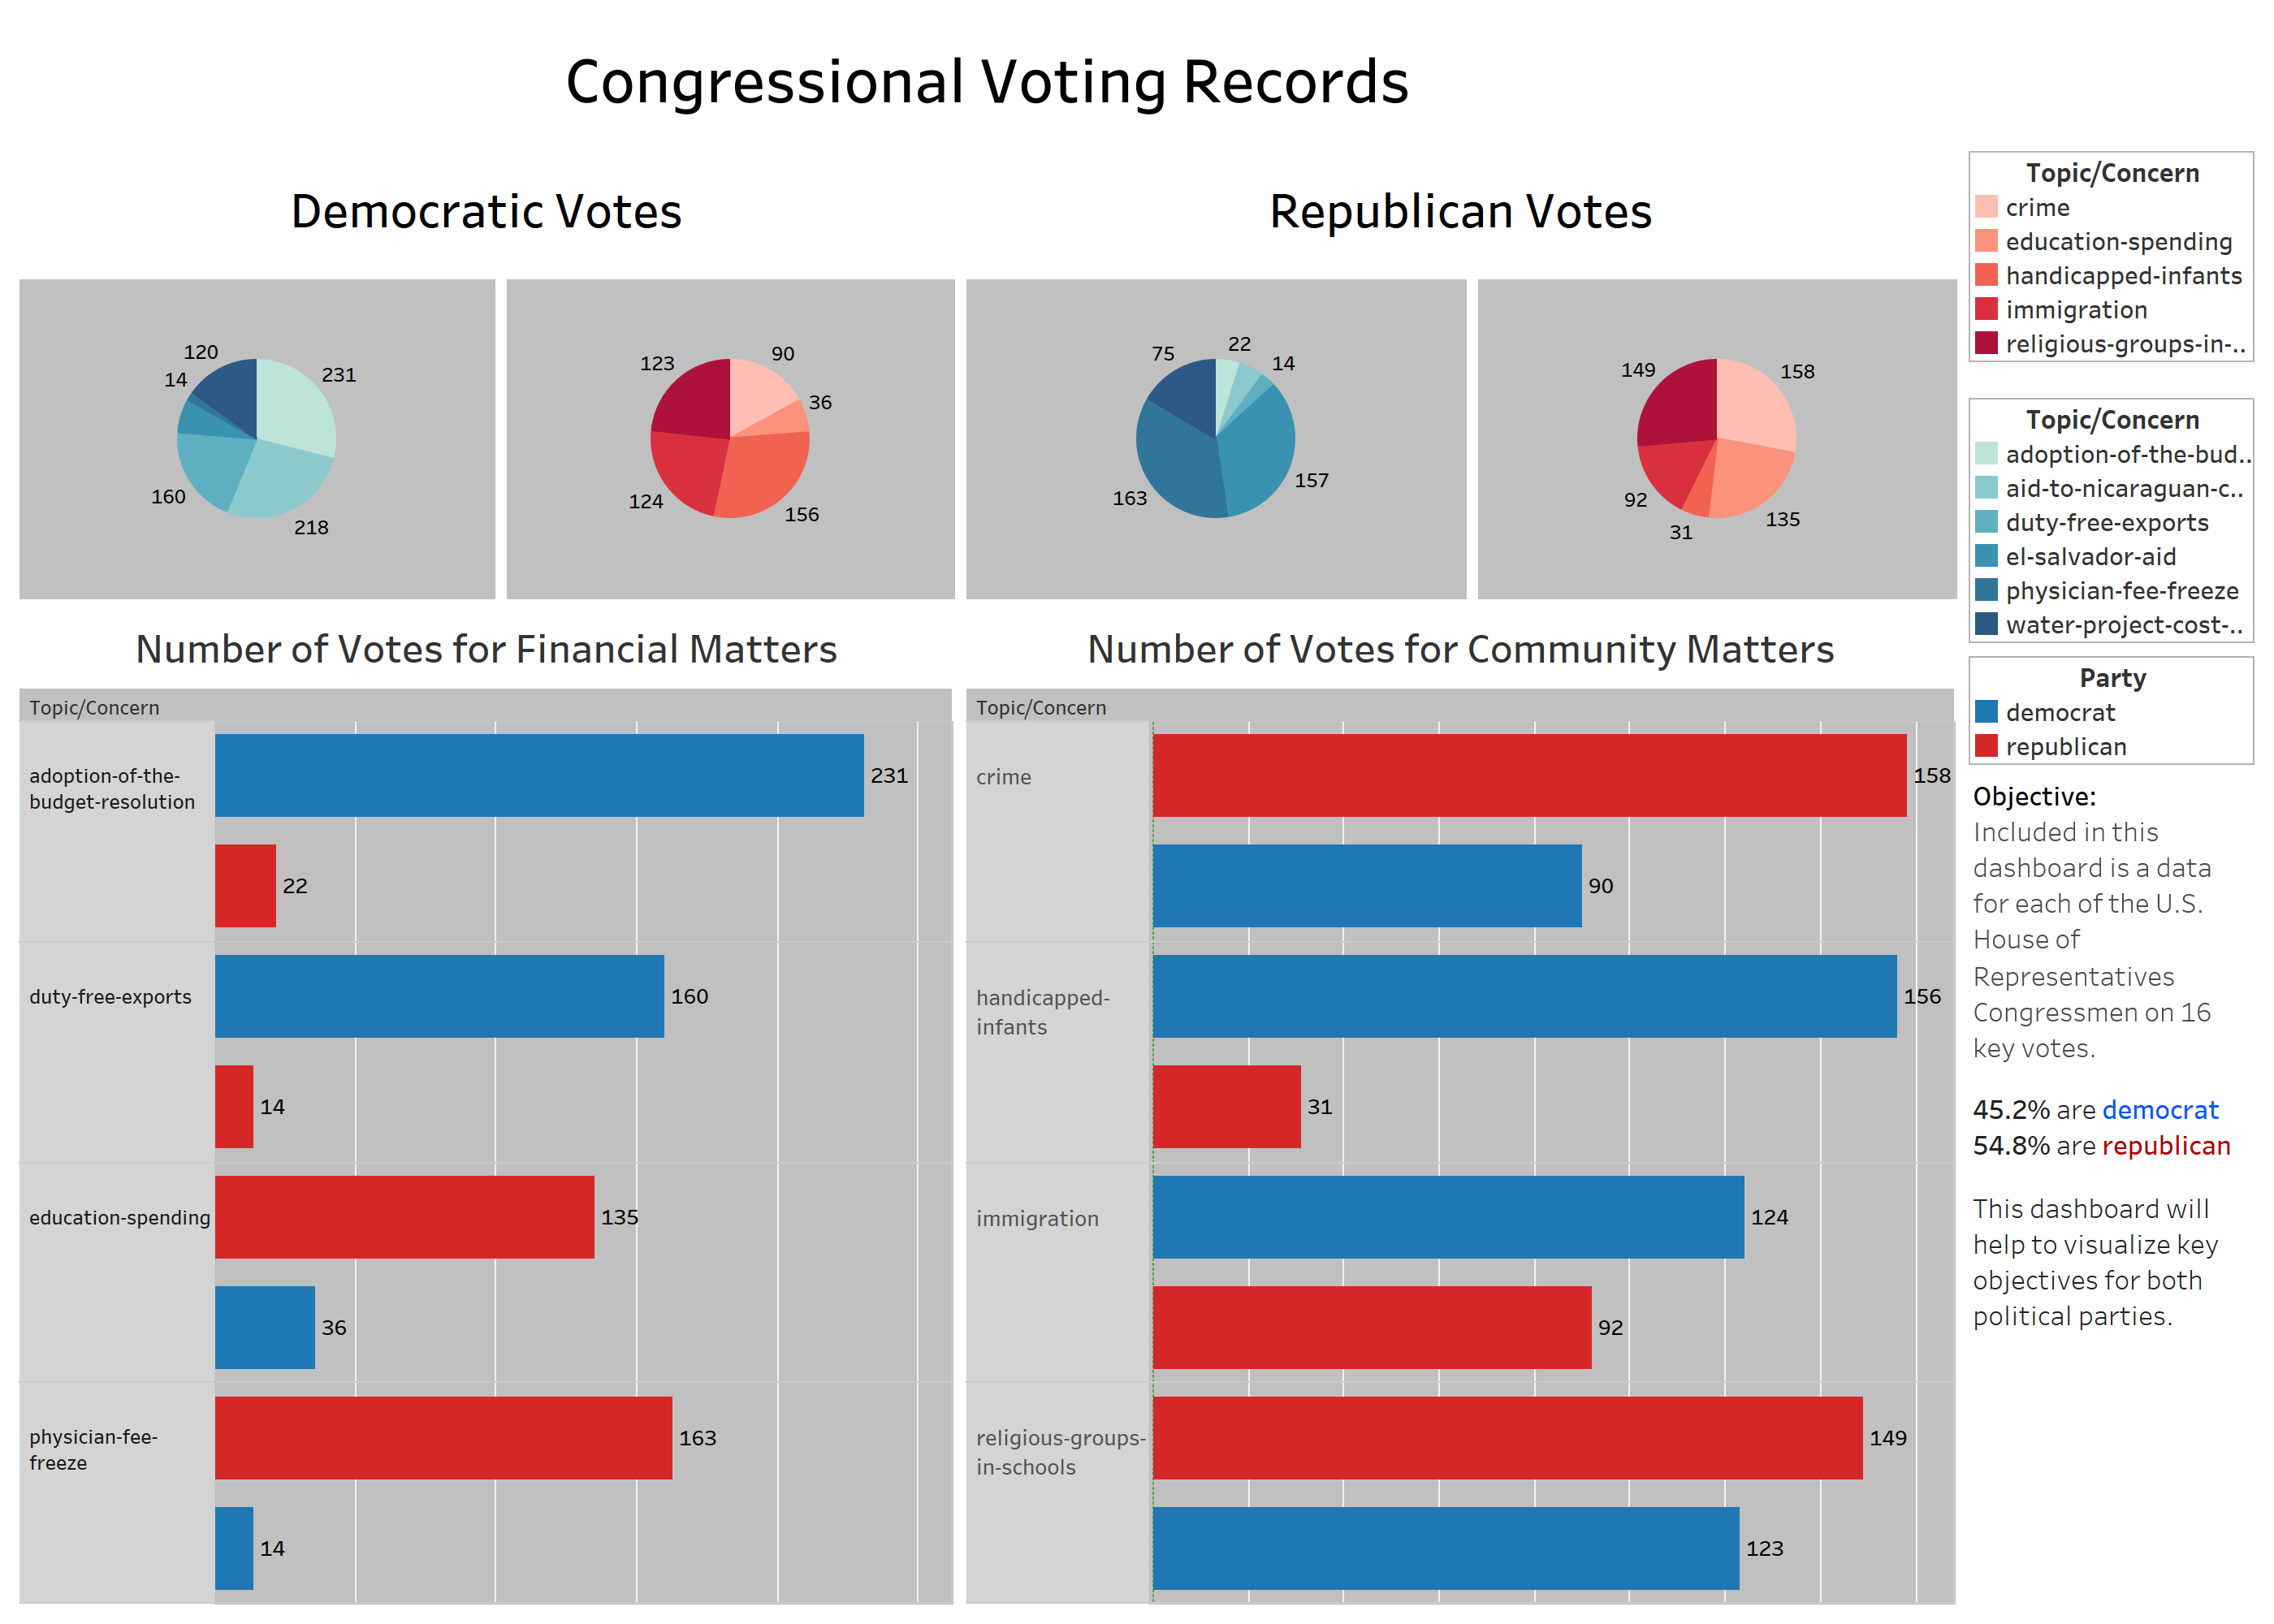

Layout of this report page (visuals, bound fields, positions):
{"tool":"tableau","page":{"name":"Dashboard 1","canvas":[1400,1000],"ordinal":0},"visuals":[{"type":"worksheet","box":[0,0,1400,1000]},{"type":"worksheet","box":[8,8,1200,81]},{"type":"worksheet","box":[1208,8,184,81]},{"type":"worksheet","param":"horz","box":[8,89,1200,903]},{"type":"worksheet","box":[8,89,1200,903]},{"type":"worksheet","box":[8,89,583,78.6]},{"type":"worksheet","box":[591,89,617,78.6]},{"type":"worksheet","param":"vert","box":[1208,89,184,903]},{"type":"worksheet","title":"Sheet 2 (2)","mark":"Pie","param":"[federated.04a0k4o0e75gz711jjb431qhq1og].[none:F2:nk]","box":[1208,89,184,152]},{"type":"worksheet","title":"Sheet 2 (5)","mark":"Pie","box":[8,167.6,300,204.1]},{"type":"worksheet","title":"Sheet 2 (3)","mark":"Pie","box":[308,167.6,283,204.1]},{"type":"worksheet","title":"Sheet 2 (6)","mark":"Pie","box":[591,167.6,315,204.1]},{"type":"worksheet","title":"Sheet 2 (2)","mark":"Pie","box":[906,167.6,302,204.1]},{"type":"worksheet","title":"Sheet 2 (6)","mark":"Pie","param":"[federated.04a0k4o0e75gz711jjb431qhq1og].[none:F2:nk]","box":[1208,241,184,159]},{"type":"worksheet","title":"Sheet 2 (4)","mark":"Automatic","rows":["F2","F1"],"cols":["F3"],"box":[8,371.7,582.7,620.4]},{"type":"worksheet","title":"Sheet 2","mark":"Automatic","rows":["F2","F1"],"cols":["F3"],"box":[590.6,371.7,617.4,620.4]},{"type":"worksheet","title":"Sheet 2 (4)","mark":"Automatic","rows":["F2","F1"],"cols":["F3"],"param":"[federated.04a0k4o0e75gz711jjb431qhq1og].[none:F1:nk]","box":[1208,400,184,75]},{"type":"worksheet","box":[1208,475,184,380]}]}

Visuals, with their boxes in screenshot pixels (x1, y1, x2, y2), scaled from the page's 1400x1000 canvas onto the 2274x1624 screenshot:
worksheet: l=0, t=0, r=2273, b=1623
worksheet: l=13, t=13, r=1962, b=145
worksheet: l=1962, t=13, r=2261, b=145
worksheet: l=13, t=145, r=1962, b=1611
worksheet: l=13, t=145, r=1962, b=1611
worksheet: l=13, t=145, r=960, b=272
worksheet: l=960, t=145, r=1962, b=272
worksheet: l=1962, t=145, r=2261, b=1611
"Sheet 2 (2)" worksheet (Pie marks): l=1962, t=145, r=2261, b=391
"Sheet 2 (5)" worksheet (Pie marks): l=13, t=272, r=500, b=603
"Sheet 2 (3)" worksheet (Pie marks): l=500, t=272, r=960, b=603
"Sheet 2 (6)" worksheet (Pie marks): l=960, t=272, r=1472, b=603
"Sheet 2 (2)" worksheet (Pie marks): l=1472, t=272, r=1962, b=603
"Sheet 2 (6)" worksheet (Pie marks): l=1962, t=391, r=2261, b=650
"Sheet 2 (4)" worksheet: l=13, t=603, r=959, b=1611
"Sheet 2" worksheet: l=959, t=603, r=1962, b=1611
"Sheet 2 (4)" worksheet: l=1962, t=650, r=2261, b=771
worksheet: l=1962, t=771, r=2261, b=1389
